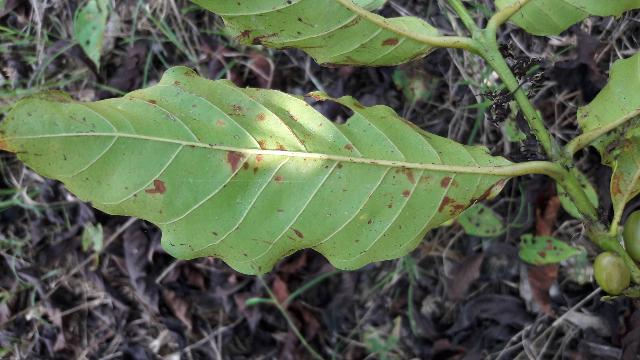red_spider_mite: (0, 68, 514, 271)
